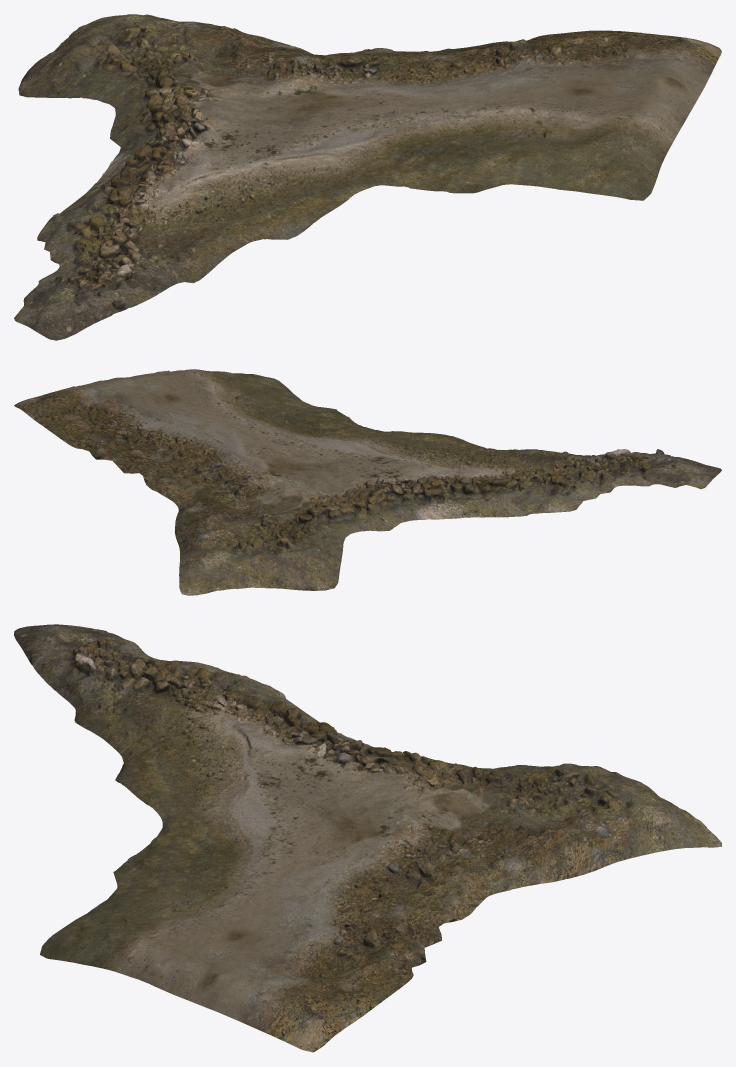
Rendered from coast_rocks_01_LOD3.glb.
The picture shows the model from 3 angles, top to bottom: view 1: azimuth 30°, elevation 25°; view 2: azimuth 150°, elevation 25°; view 3: azimuth 270°, elevation 25°; orthographic projection. The views are drawn at different scales.
Visible parts, largest first — view 1: coast_rocks_01_LOD3; view 2: coast_rocks_01_LOD3; view 3: coast_rocks_01_LOD3.
Part boxes in pixels (x1,y1,x2,y2): coast_rocks_01_LOD3: [14, 14, 721, 340]; coast_rocks_01_LOD3: [14, 369, 721, 595]; coast_rocks_01_LOD3: [14, 624, 721, 1052].
Size of the model in its own units: 59.51 by 3.29 by 42.52.
Materials: 1 (1 with a texture image).
